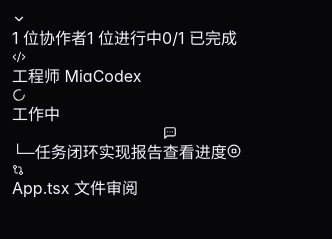
Scenario: DelegationCard › disables cancellation while pending and surfaces cancellation errors
Click the button titled "取消任务" at (234,151), box [227,144,241,158]
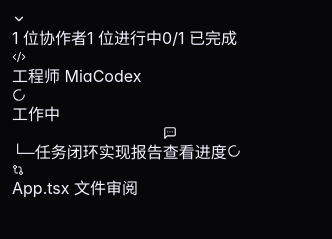
Expected: the button titled "取消任务" is disabled
Click the button titled "取消任务" at (234,151), box [227,144,241,158]
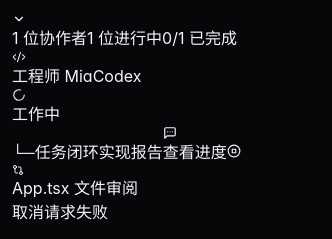
Expected: the button titled "取消任务" is enabled, [227,144,241,158]
Expected: the message "取消请求失败" is shown, [12,202,108,222]
